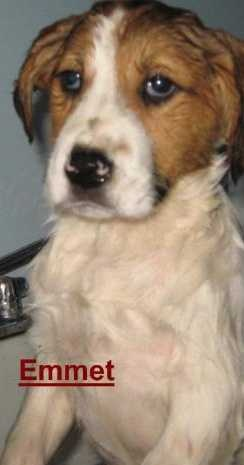Dog: (13, 0, 243, 379)
